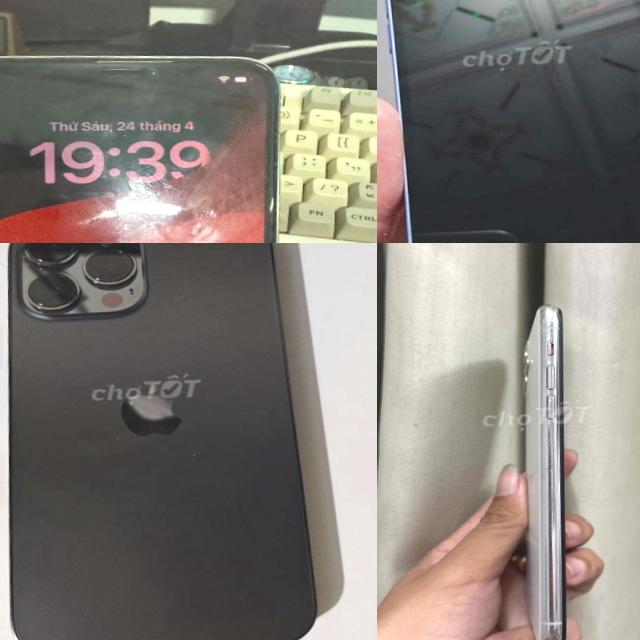gen_11: (489, 292, 599, 640)
gen_12_13: (0, 243, 324, 640), (377, 0, 640, 243)
gen_x_xs: (0, 45, 312, 243)
